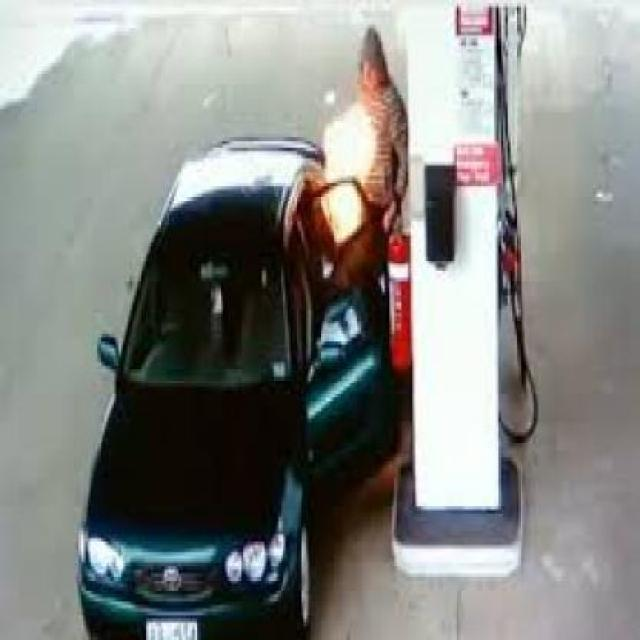Fire: (319, 97, 378, 246)
